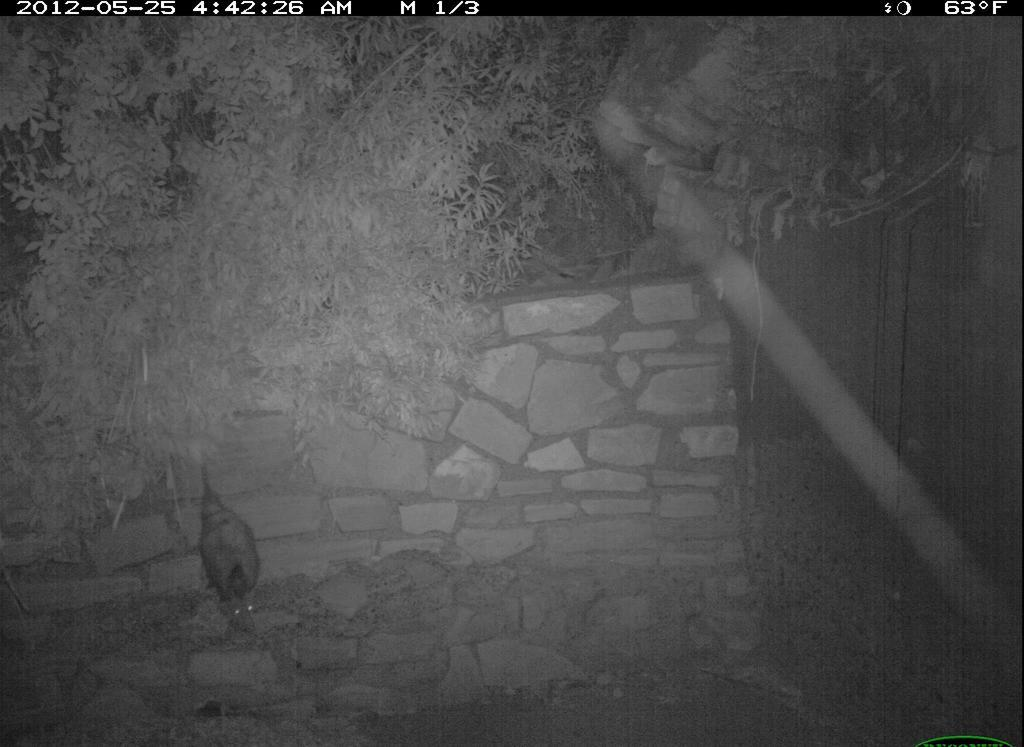opossum: (177, 451, 273, 644)
